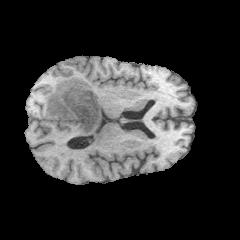glioma: (44, 76, 102, 136)
